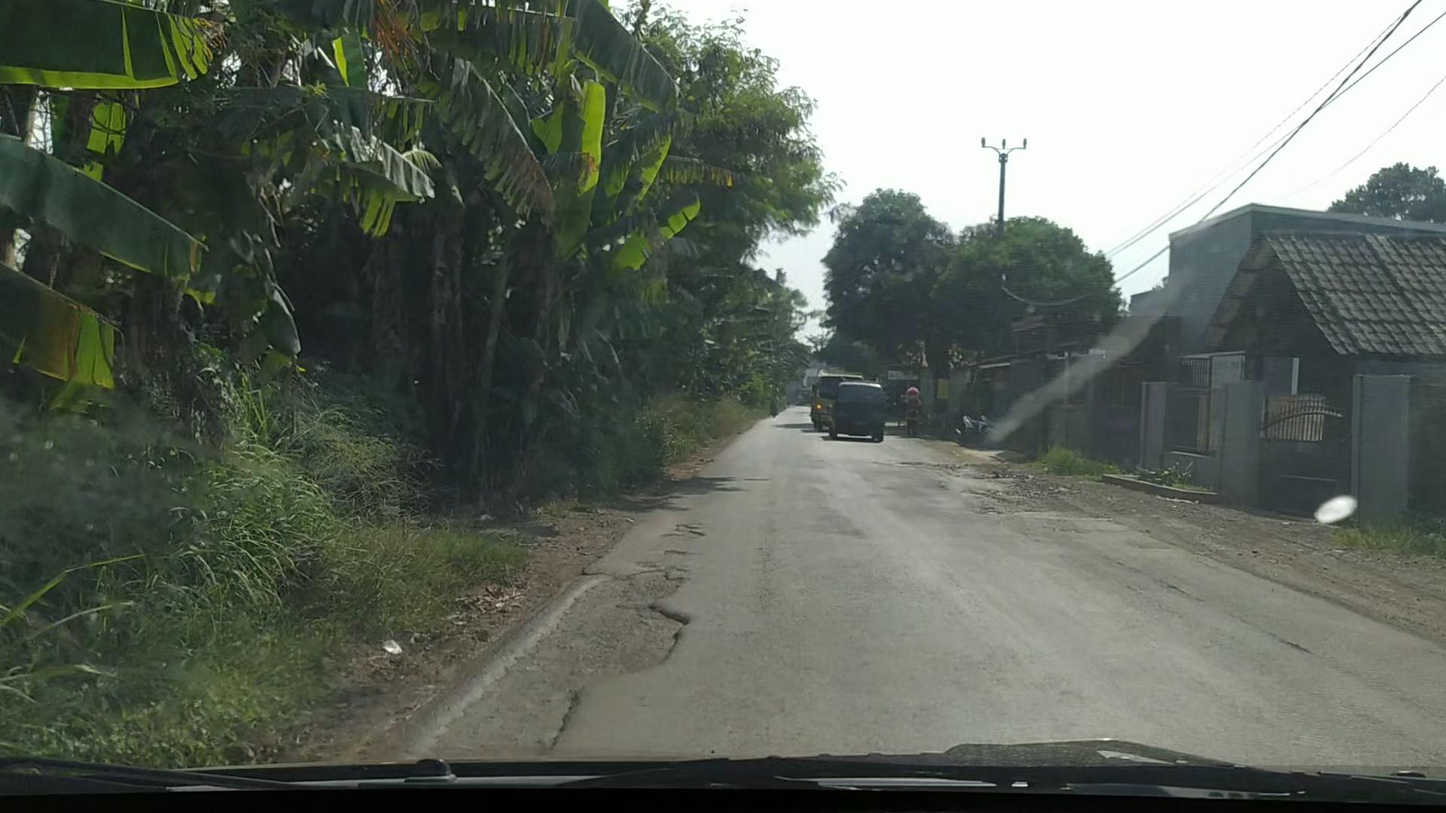pothole: (395, 563, 693, 759), (659, 523, 706, 542), (663, 548, 691, 557)
